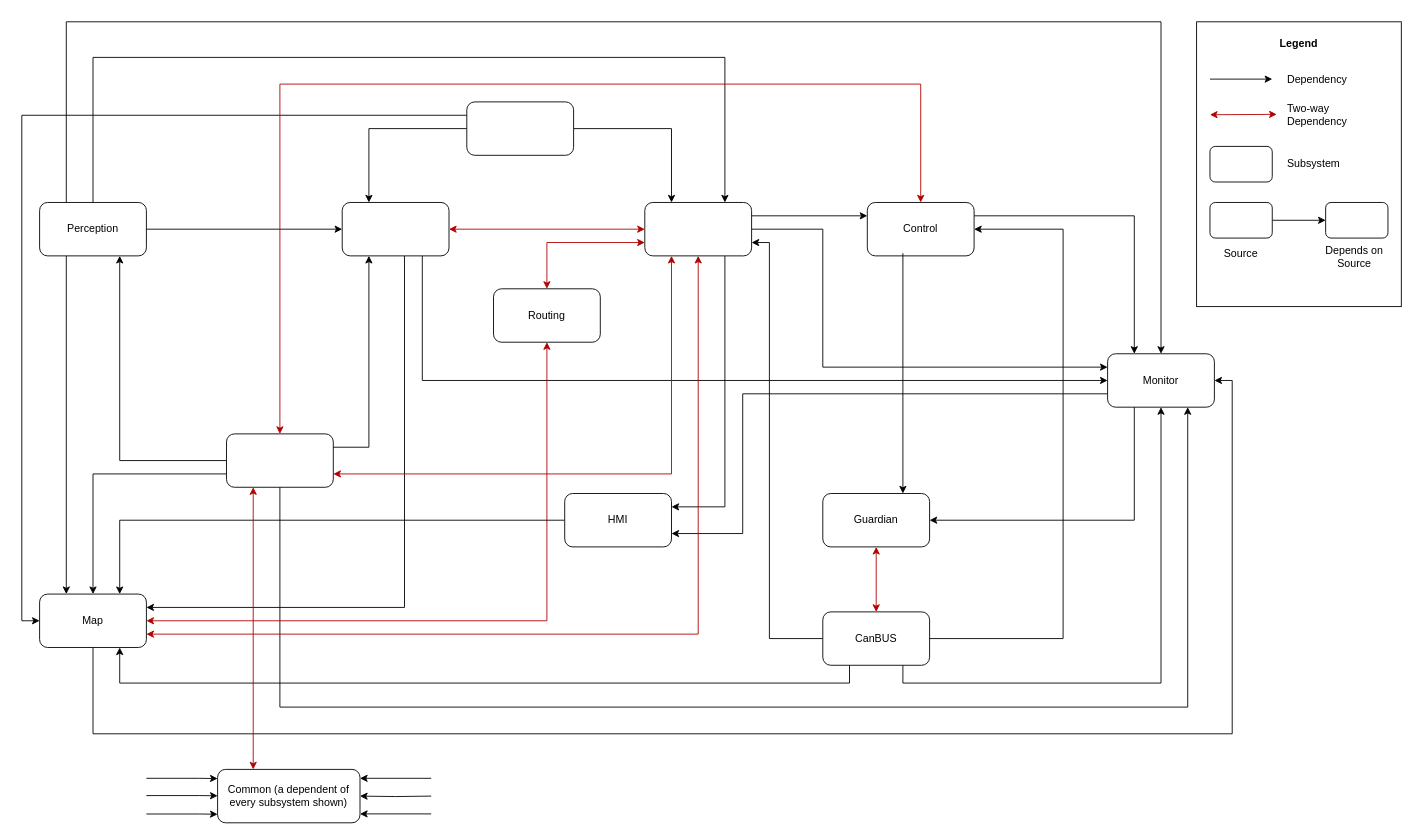
Image size: 1417x838. Some labels were removed from this diagram. The shapes that lost their labels are listed below. From the top down, each one's centre as x and y in pixels, then its label:
At (x=520, y=128): "Storytelling".
At (x=395, y=229): "Prediction".
At (x=698, y=229): "Planning".
At (x=279, y=460): "Localization".
